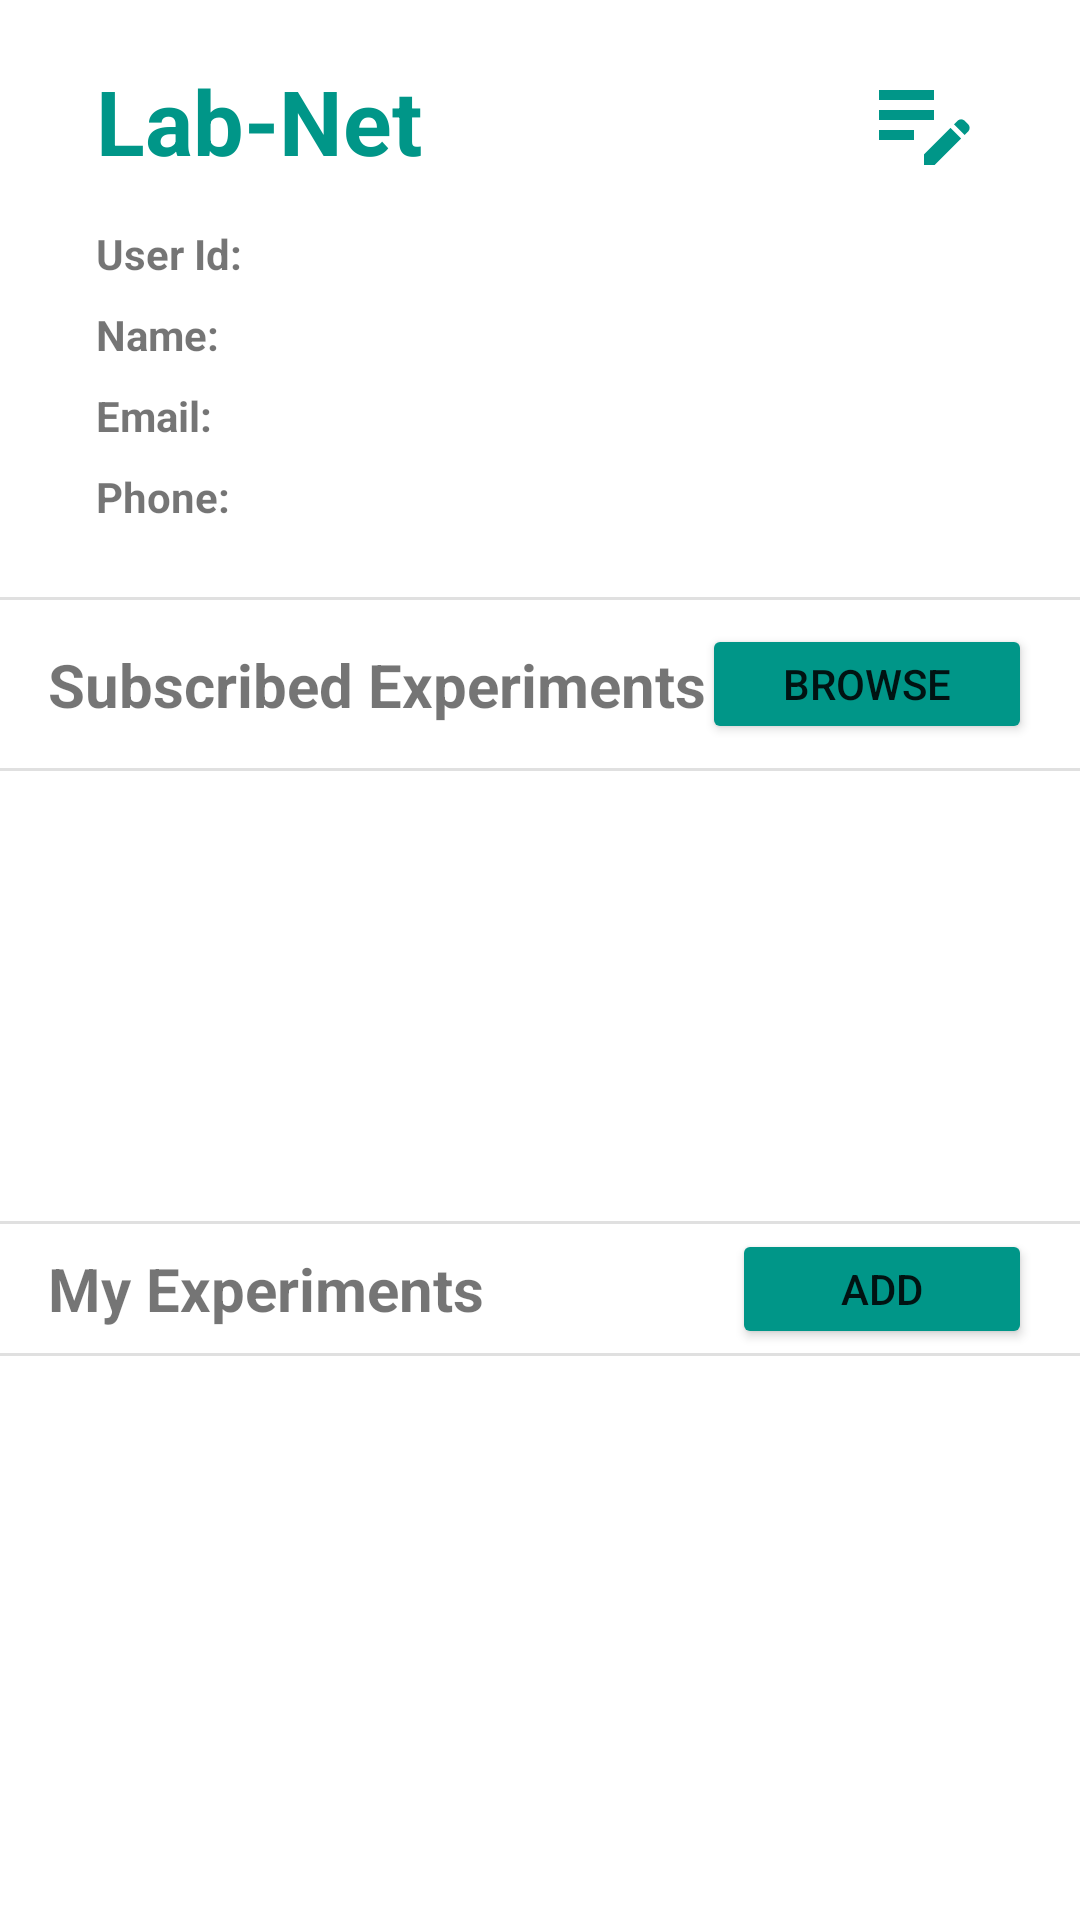

Named icons in this screenshot (1080w x 1920h) and their bounding boxes, (x1, y1, x2, y2):
edit note: (879, 90, 970, 165)
